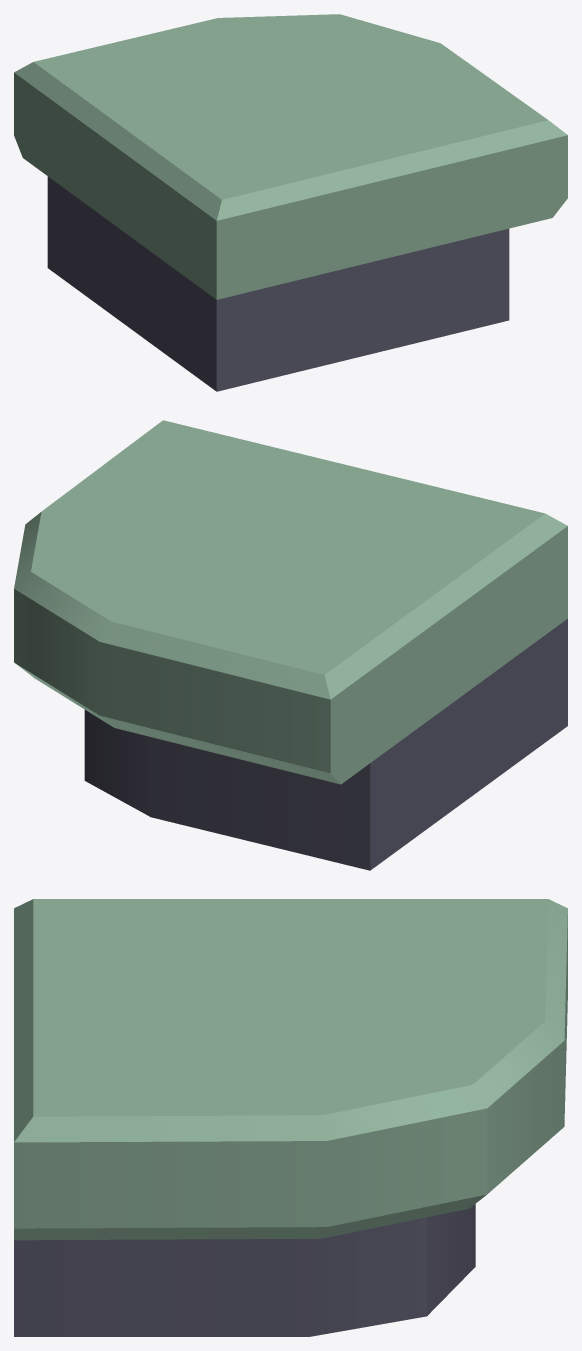
The model's file is topRTile.fbx.
3 views of the same model, one above another, from view 1: azimuth 30°, elevation 25°; view 2: azimuth 150°, elevation 25°; view 3: azimuth 270°, elevation 25° (orthographic). The views are drawn at different scales.
Visible parts, largest first — view 1: trTile; view 2: trTile; view 3: trTile.
Part boxes in pixels (bbox=[...]): trTile: bbox=[14, 14, 567, 391]; trTile: bbox=[14, 420, 567, 870]; trTile: bbox=[14, 899, 567, 1336].
Size of the model in its own units: 60 by 30 by 60.
